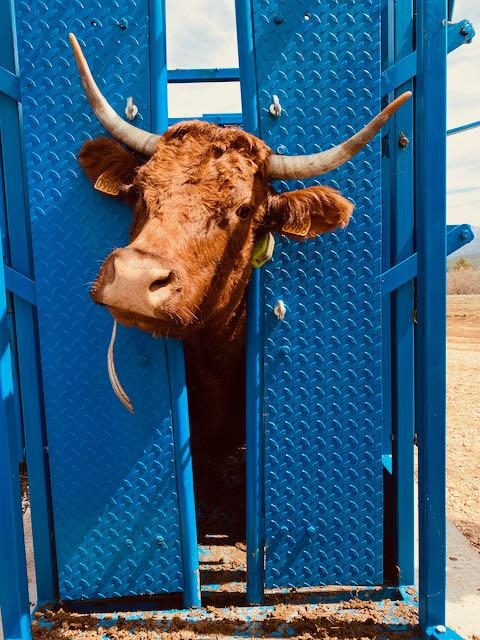muzzles: (89, 243, 184, 327)
